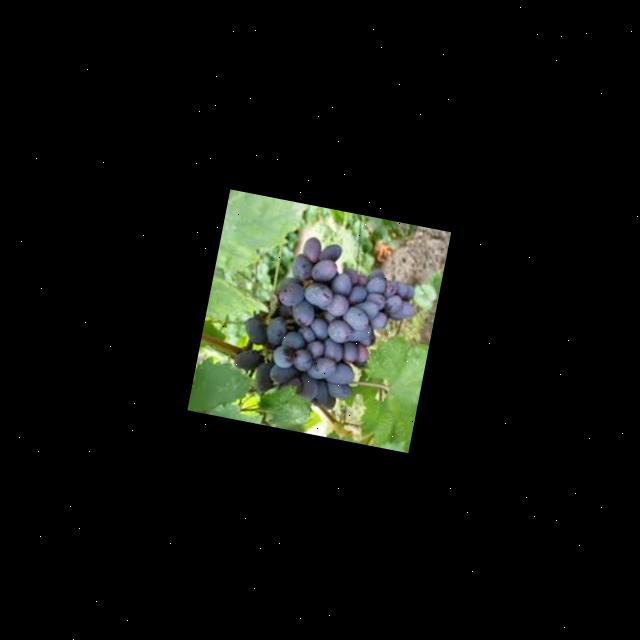grape: (228, 226, 428, 422)
